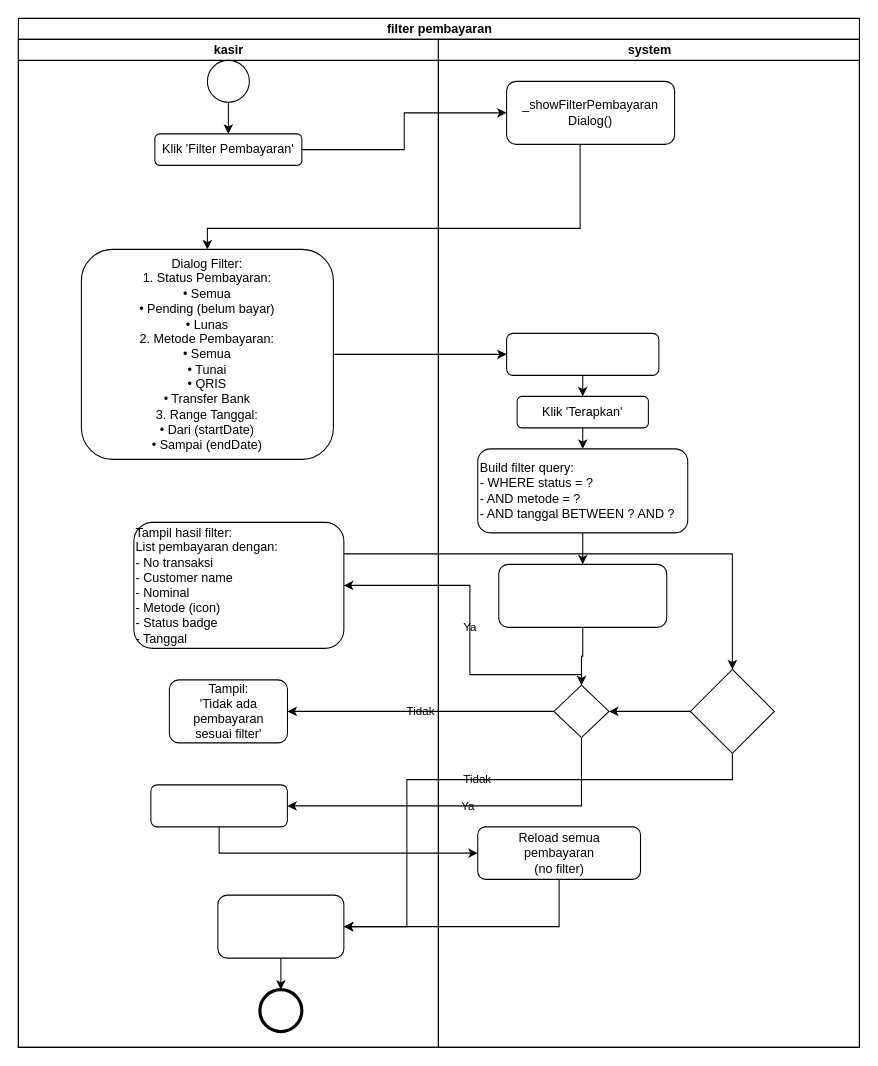
This 878x1066 diagram has some shape labels left out. Here are the shapes that lost their labels. From the top down, the centre of each, then its label:
At (x=582, y=353): "User pilih filter criteria".
At (x=582, y=595): "getPembayaranByFilter() (query database)".
At (x=581, y=711): "Ada hasil?".
At (x=731, y=710): "Clear Filter?".
At (x=218, y=805): "Klik 'Hapus Filter' → Reset to default (semua data)".
At (x=280, y=926): "Klik 'Tutup'".
